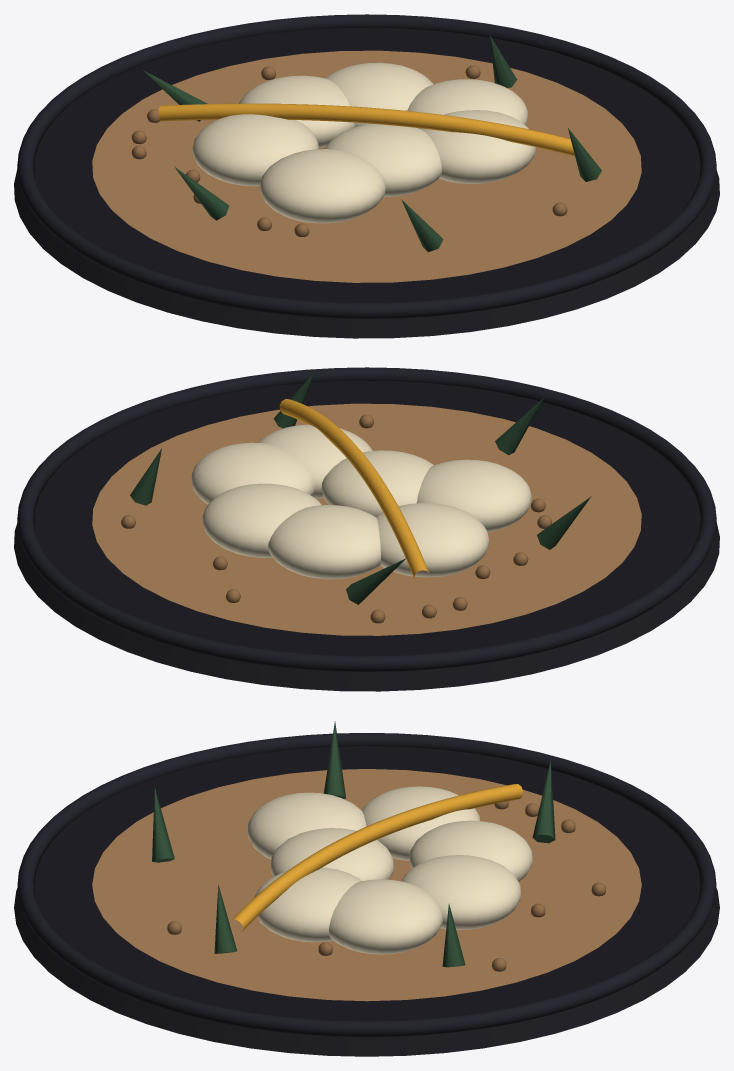
The model's file is ravioles-chevre-miel.glb.
3 renders of one model, top to bottom at view 1: azimuth 30°, elevation 25°; view 2: azimuth 150°, elevation 25°; view 3: azimuth 270°, elevation 25°, orthographic.
Bounding box in the file's own units: 0.32 × 0.0429 × 0.32.
